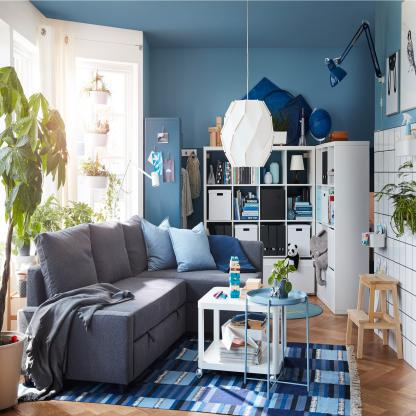bantal: (173, 226, 216, 270), (142, 220, 174, 268)
lampu: (215, 92, 276, 169), (319, 51, 353, 91)
meja: (197, 283, 288, 387), (247, 284, 316, 399)
sova: (8, 226, 269, 395)
tanaman: (1, 64, 68, 416)
